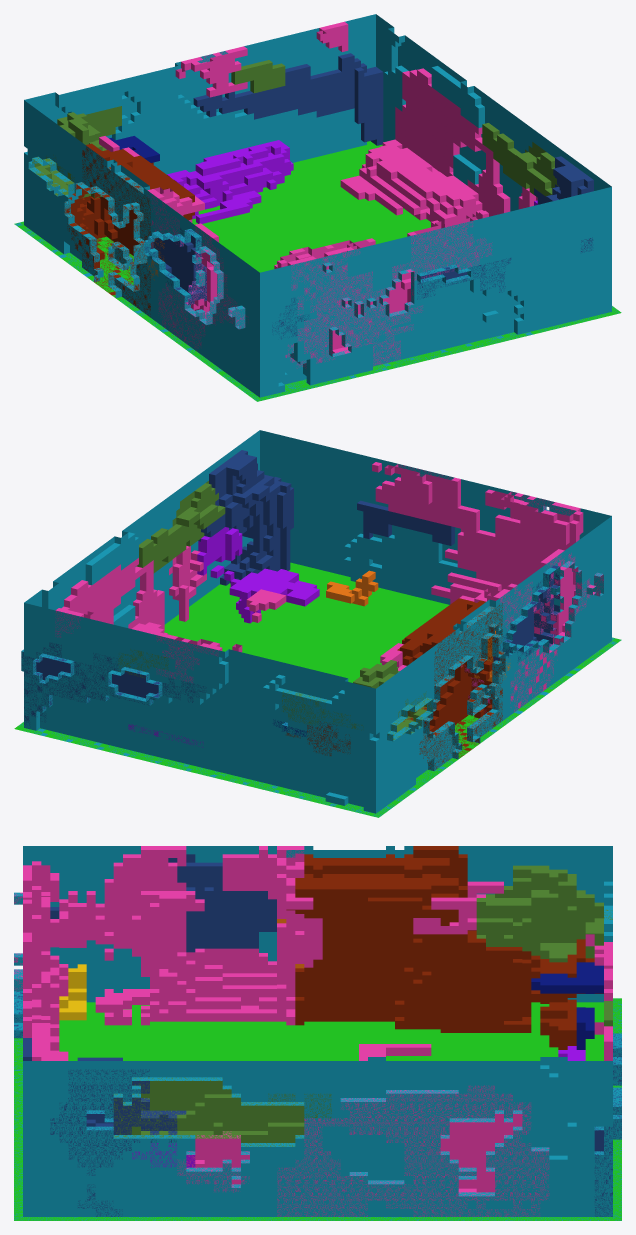
File: Input_prediction.obj
3 renders of one model, top to bottom at view 1: azimuth 30°, elevation 25°; view 2: azimuth 150°, elevation 25°; view 3: azimuth 270°, elevation 25°, orthographic. The views are drawn at different scales.
Parts seen in each view (by area): view 1: wall, floor, objects 0, objects 6, furniture 0, window 3, sofa 0, tvs 2, window 0, tvs 0, window 4, tvs 1 (+2 smaller); view 2: wall, floor, objects 0, furniture 0, window 4, window 3, objects 6, tvs 2, sofa 1, tvs 0, window 0, window 2 (+4 smaller); view 3: wall, objects 0, furniture 0, floor, objects 6, tvs 0, tvs 2, window 0, window 4, objects 7, objects 2, table 1 (+6 smaller).
Boxes of the visible parts, <box> form: wall: <box>15,14,618,401</box>; floor: <box>14,141,621,401</box>; objects 0: <box>147,21,492,368</box>; objects 6: <box>340,68,510,227</box>; furniture 0: <box>64,143,194,316</box>; window 3: <box>193,53,383,145</box>; sofa 0: <box>167,140,293,223</box>; tvs 2: <box>482,123,558,197</box>; window 0: <box>144,228,206,304</box>; tvs 0: <box>29,106,121,198</box>; window 4: <box>534,156,593,252</box>; tvs 1: <box>231,60,285,93</box>; wall: <box>19,430,621,816</box>; floor: <box>14,562,620,817</box>; objects 0: <box>55,462,603,712</box>; furniture 0: <box>286,598,505,770</box>; window 4: <box>198,450,293,585</box>; window 3: <box>21,642,206,728</box>; objects 6: <box>61,558,167,634</box>; tvs 2: <box>136,481,225,573</box>; sofa 1: <box>224,568,319,623</box>; tvs 0: <box>281,660,432,739</box>; window 0: <box>493,565,560,662</box>; window 2: <box>357,500,454,545</box>; wall: <box>14,846,621,1220</box>; objects 0: <box>14,846,612,1060</box>; furniture 0: <box>286,846,603,1032</box>; floor: <box>14,998,621,1220</box>; objects 6: <box>277,1085,549,1216</box>; tvs 0: <box>476,865,612,962</box>; tvs 2: <box>113,1077,331,1146</box>; window 0: <box>168,854,276,952</box>; window 4: <box>50,1057,186,1216</box>; objects 7: <box>177,1131,249,1192</box>; objects 2: <box>413,881,503,934</box>; table 1: <box>540,962,603,993</box>.
Size of the model in its own units: 4.64 by 1.52 by 5.36.
